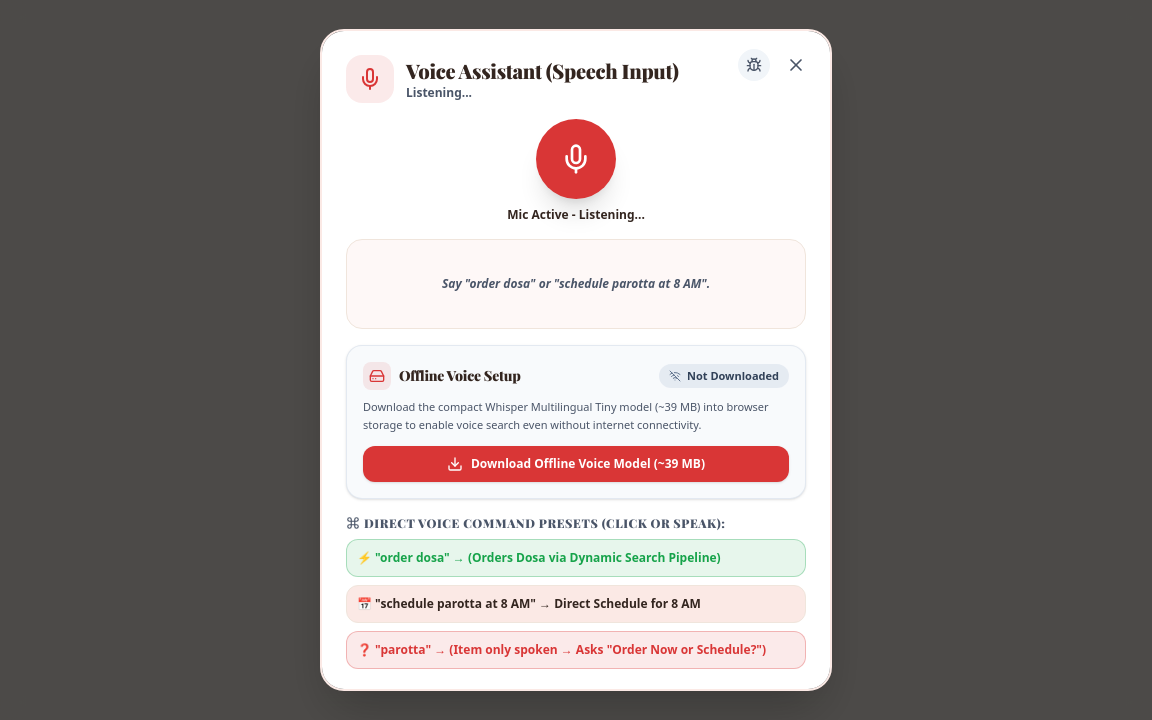
Test: VoiceCommandModal - Offline Voice Setup Section › 5. Handles download failure gracefully with "Download Failed" badge and retry button
Click the button "Download Offline Voice Model (~39 MB)" at (576, 464), box [363,446,789,482]
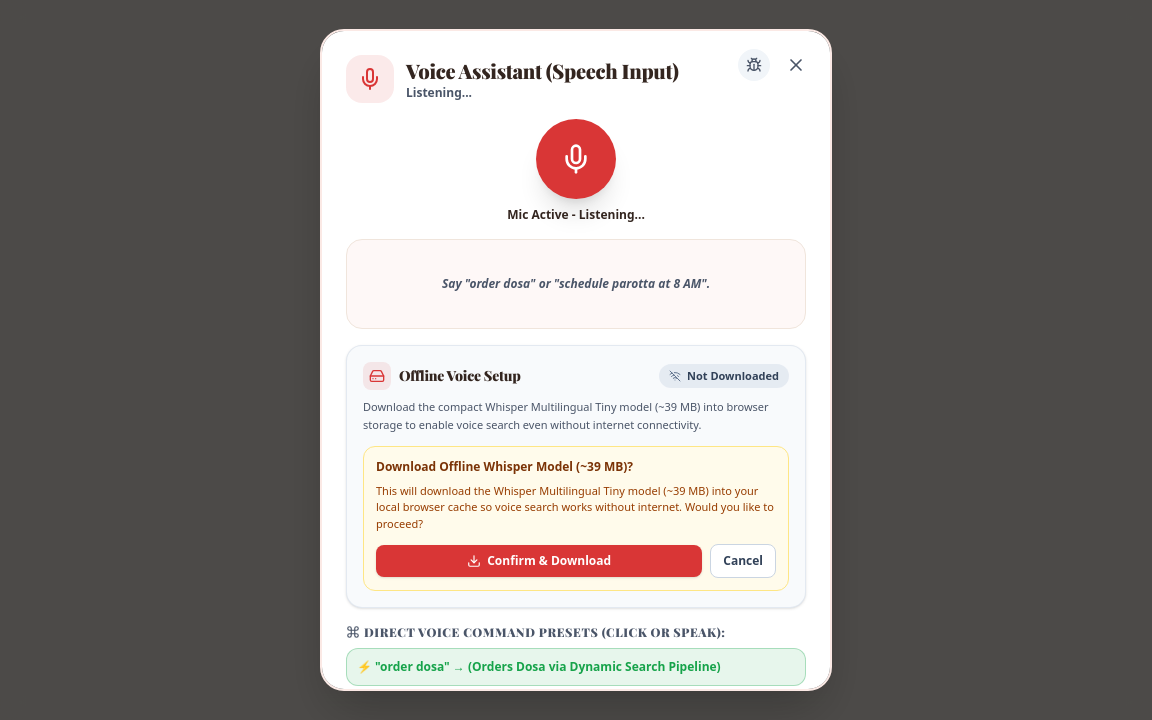
Click the button "Confirm & Download" at (539, 561), box [376,545,702,577]
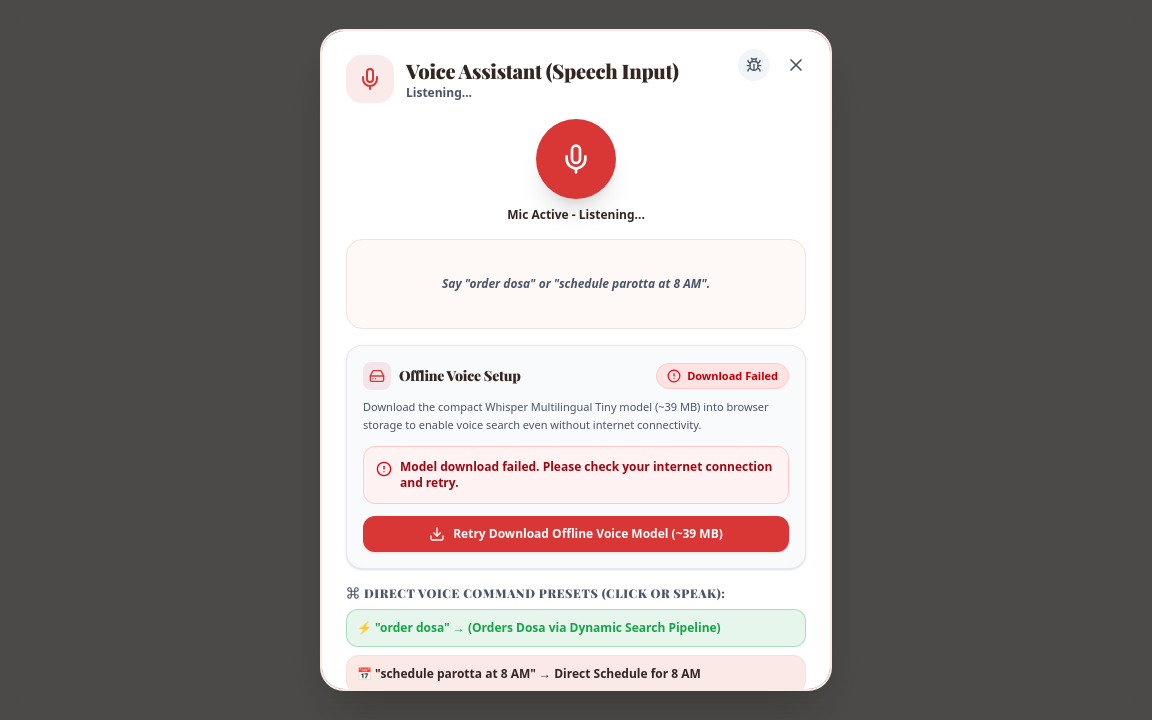
Expected: the text "Download Failed" is shown, [687,368,778,384]
Expected: the text "Model download failed" is shown, [400,458,772,490]
Expected: the text "Retry Download Offline Voice Model (~39 MB)" is shown, [453,526,723,542]
